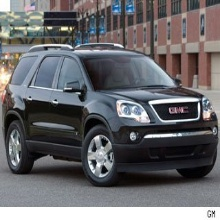no damage: (2, 43, 218, 187)
